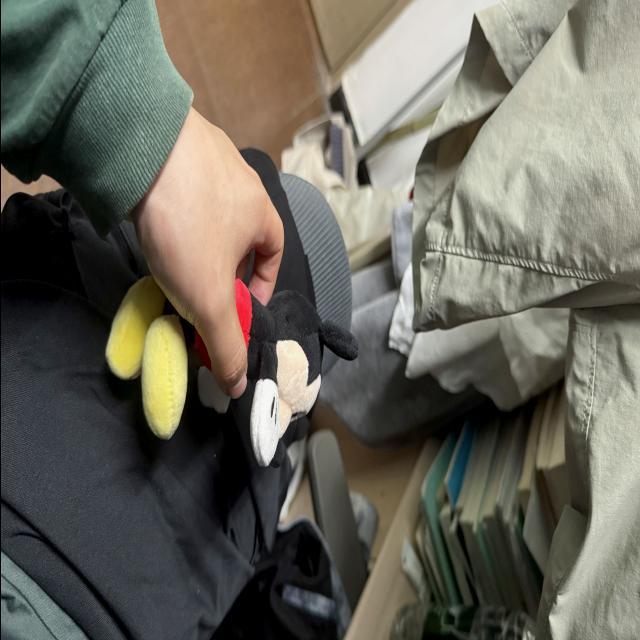mickey: (235, 280, 356, 465)
